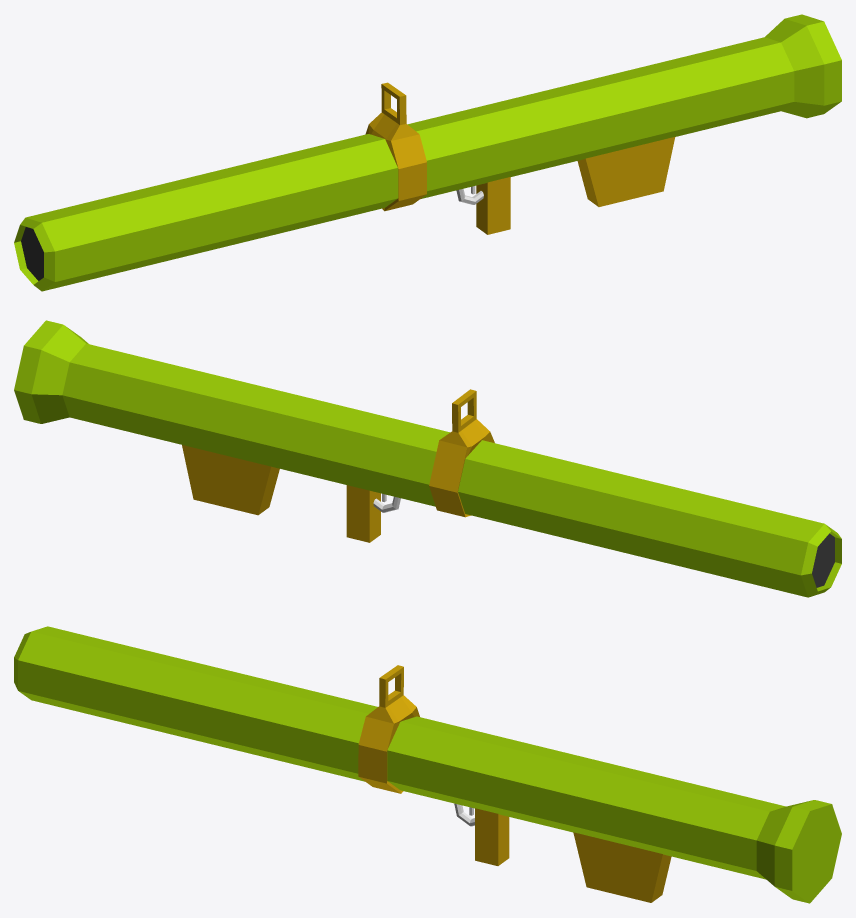
The model's file is bazooka.fbx.
The picture shows the model from 3 angles, top to bottom: view 1: azimuth 30°, elevation 25°; view 2: azimuth 150°, elevation 25°; view 3: azimuth 330°, elevation 25°; orthographic projection.
Visible parts, largest first — view 1: Cylinder; view 2: Cylinder; view 3: Cylinder.
Part boxes in pixels (bbox=[...]): Cylinder: bbox=[14, 14, 841, 291]; Cylinder: bbox=[14, 320, 841, 597]; Cylinder: bbox=[14, 626, 841, 903].
Size of the model in its own units: 1.79 by 0.354 by 0.1956.
